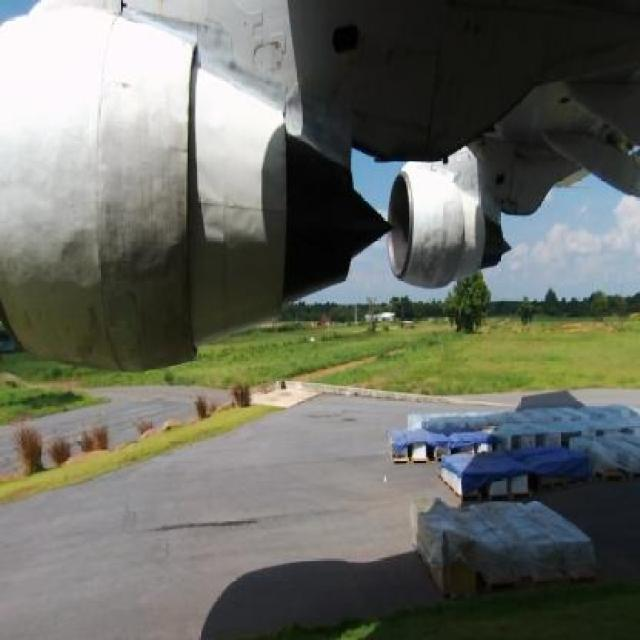Scartch: (95, 115, 191, 308), (410, 222, 448, 286)
